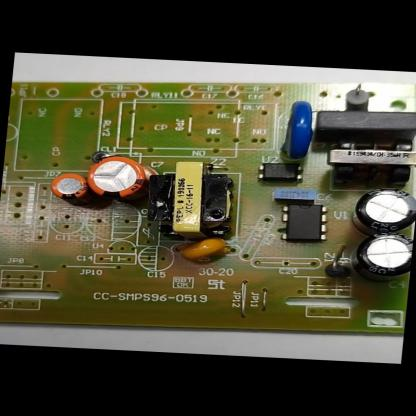Cap1: (84, 154, 147, 200)
Cap2: (48, 172, 88, 202)
Cap3: (351, 186, 416, 233)
Cap4: (350, 230, 414, 278)
MOSFET: (278, 202, 330, 244)
Mov: (280, 99, 316, 159)
Resistor: (342, 82, 371, 113)
Transformer: (142, 159, 237, 239), (326, 137, 416, 186)
